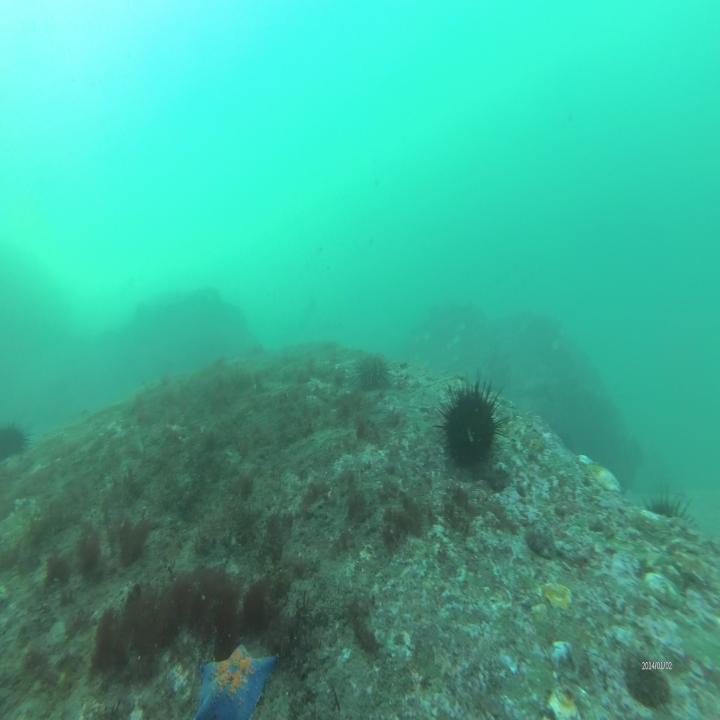echinus: (437, 376, 507, 476), (646, 488, 692, 526), (1, 417, 30, 464), (360, 350, 392, 392)
starfish: (196, 644, 276, 720)
